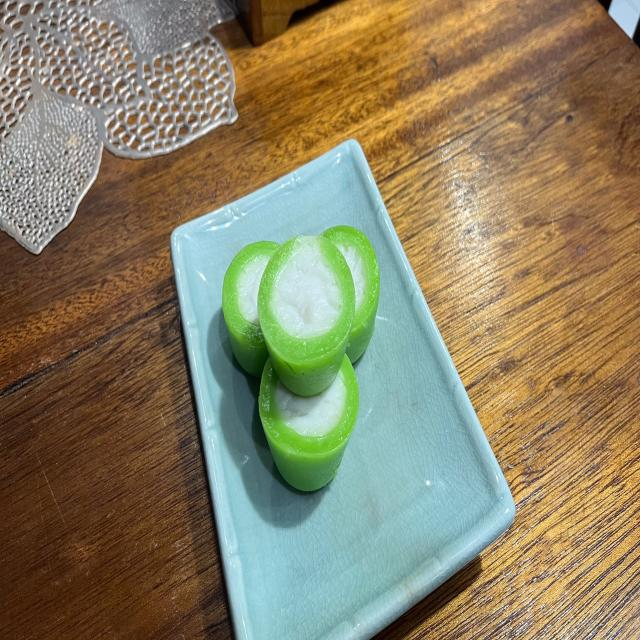nona-manis: (258, 236, 355, 396), (259, 356, 359, 491), (322, 224, 380, 362), (222, 242, 279, 378)
